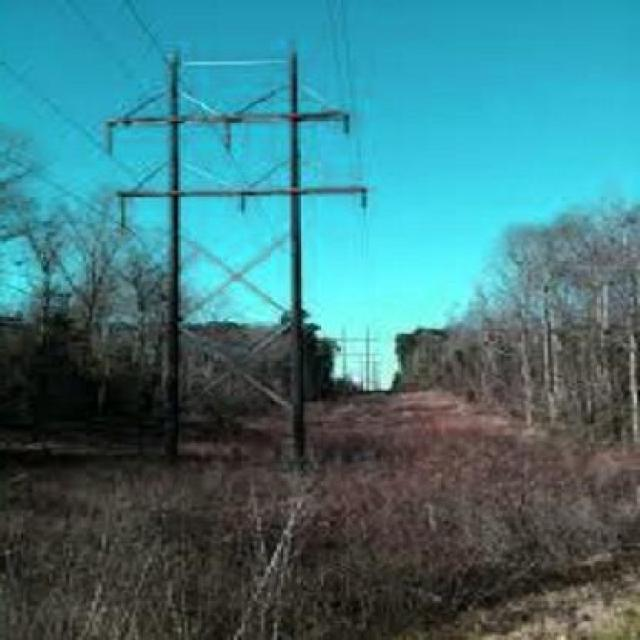pole: (120, 36, 352, 470)
